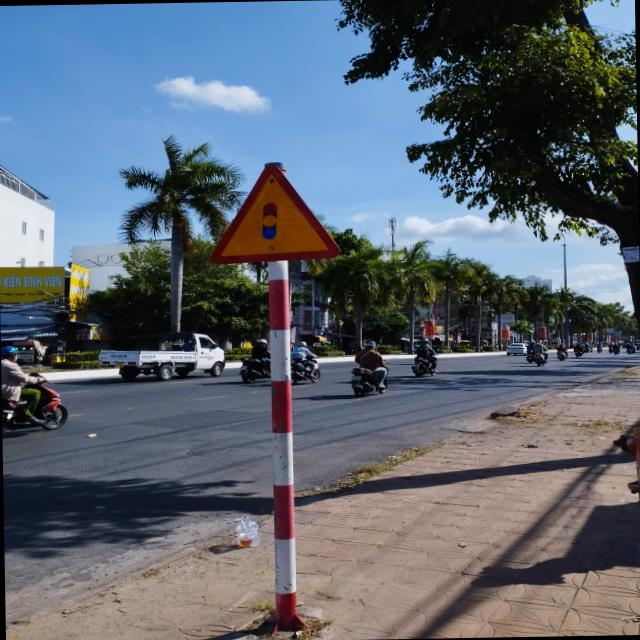Duong_Co_Go_Giam_Toc: (206, 161, 342, 265)
